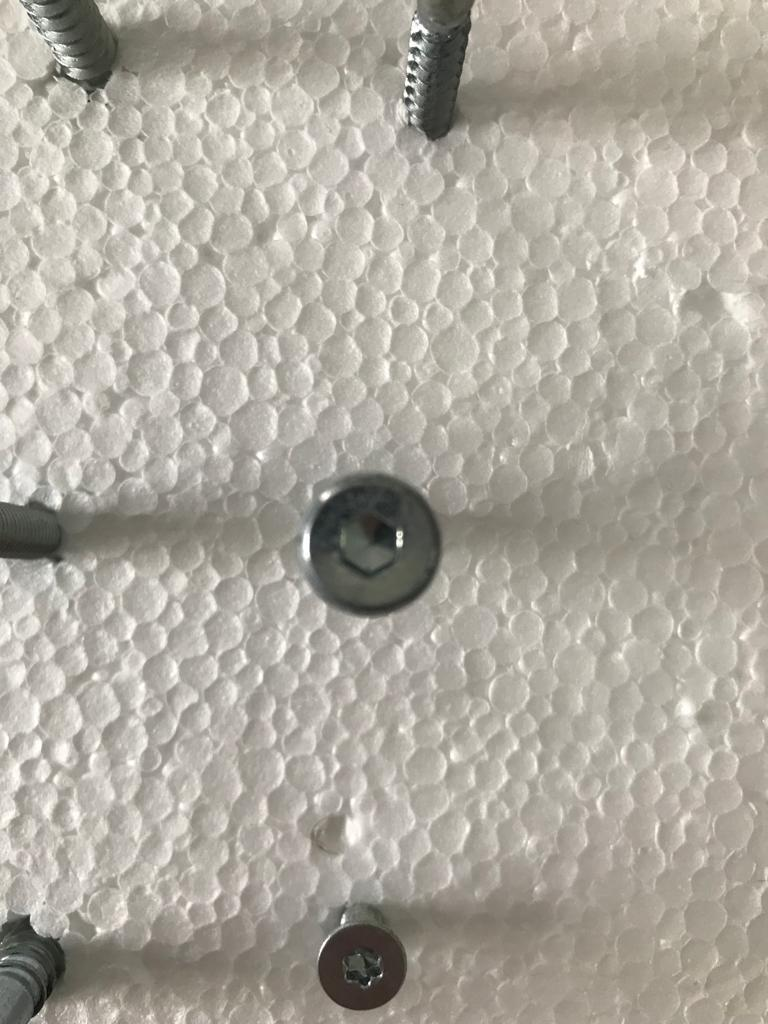H: (300, 475, 443, 616)
